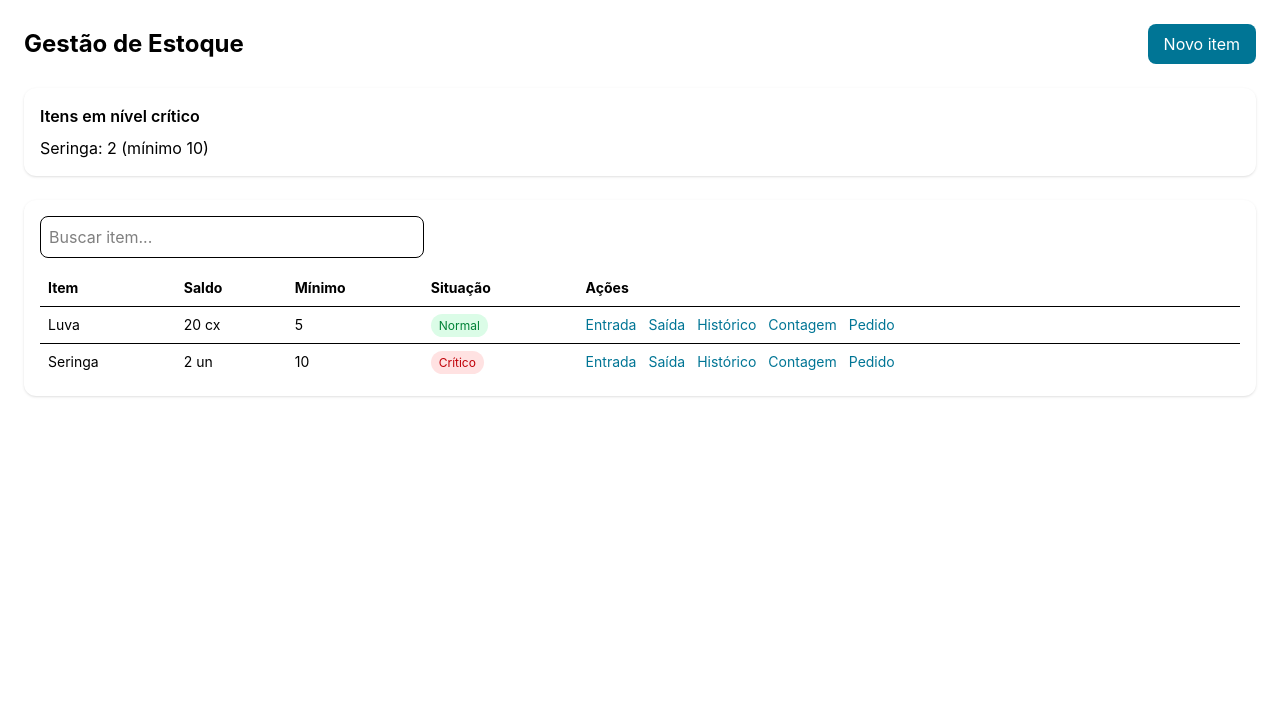
Página de Estoque › FE-24 exibe o erro da API quando a saída é recusada
The image size is (1280, 720).
Click the button with aria-label "Saída de Luva" at (667, 325), box [648,315,685,335]
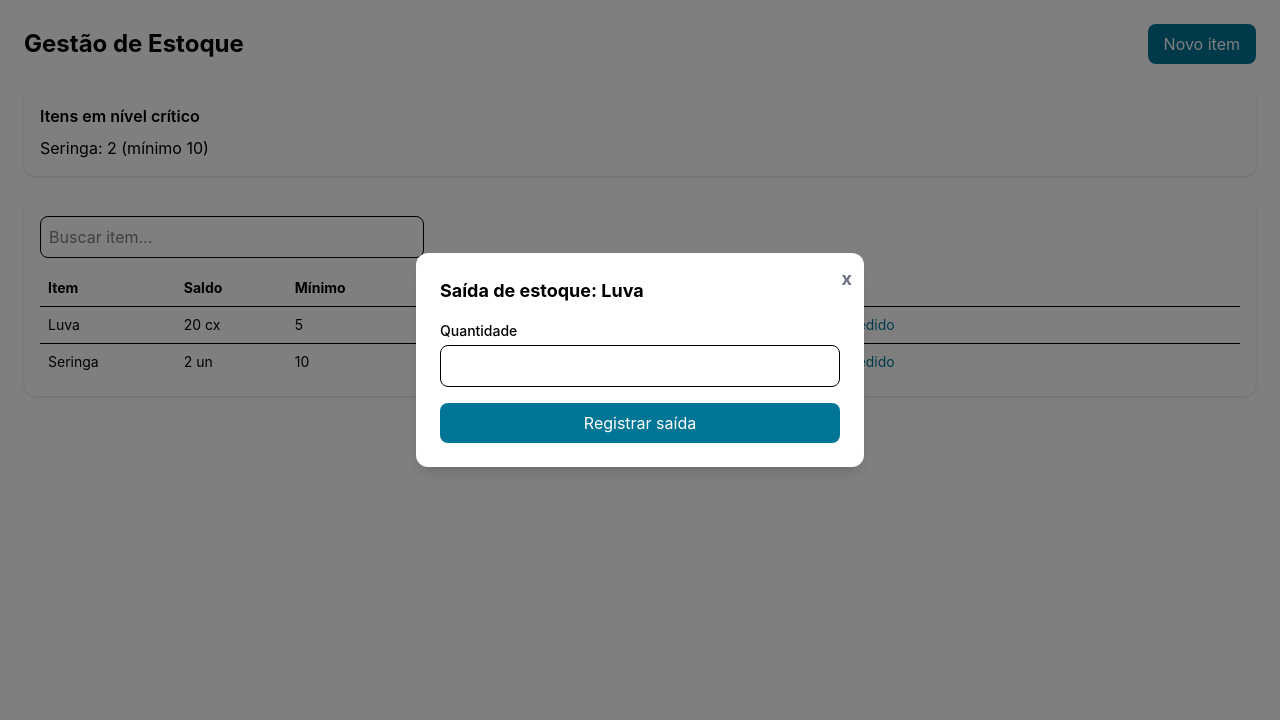
Type "99" into the number field labelled "Quantidade" at (640, 366), box [440,345,840,387]
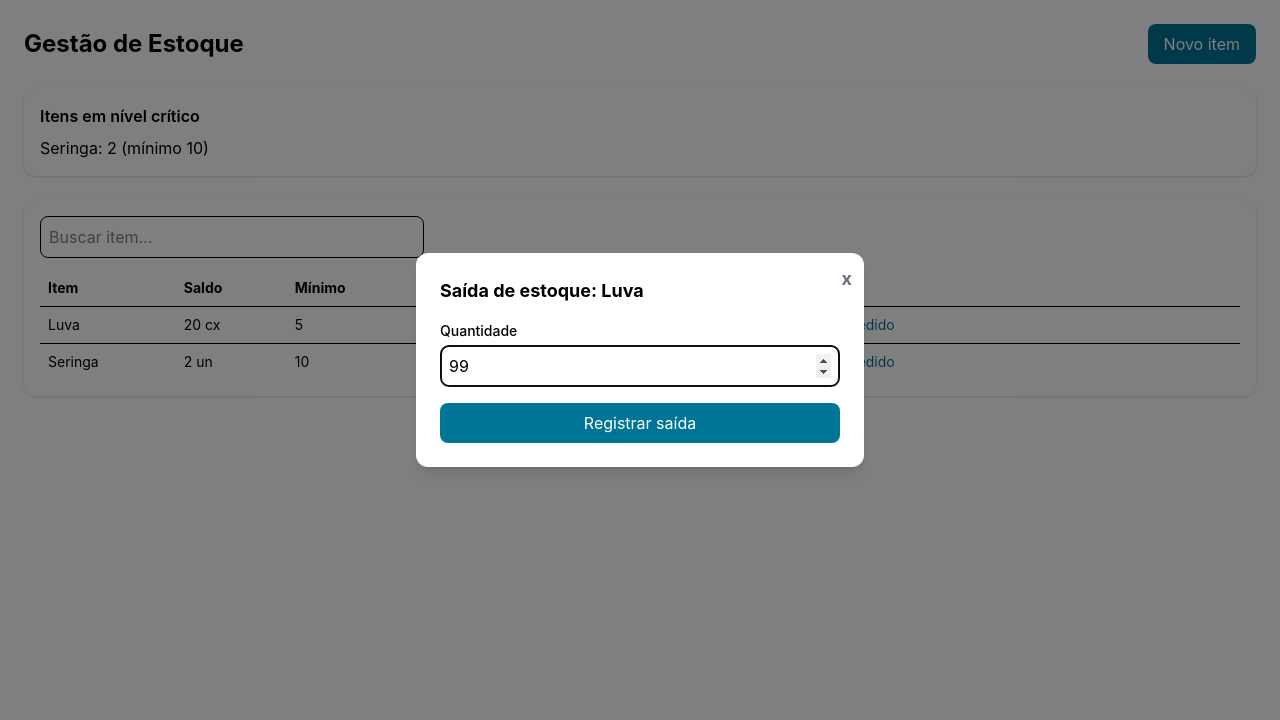
Click the button "Registrar saída" at (640, 423), box [440,403,840,443]
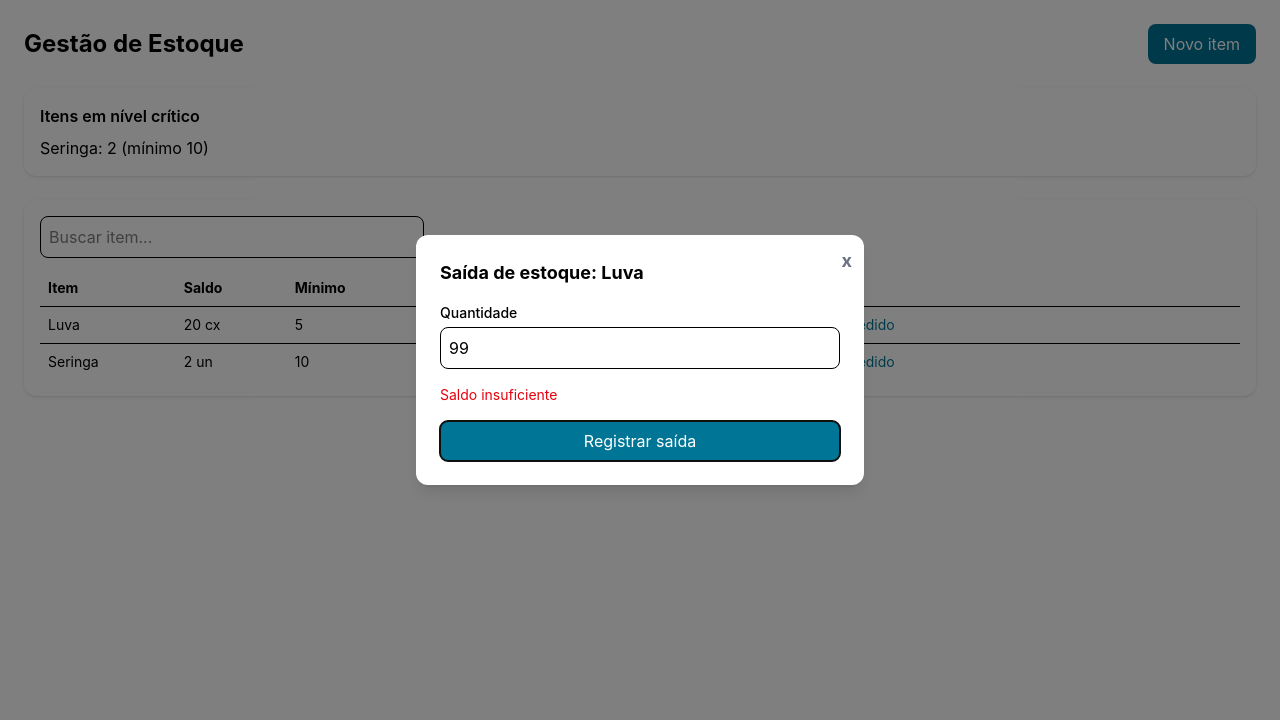
Expected: the message reads "Saldo insuficiente", [440,386,558,403]
